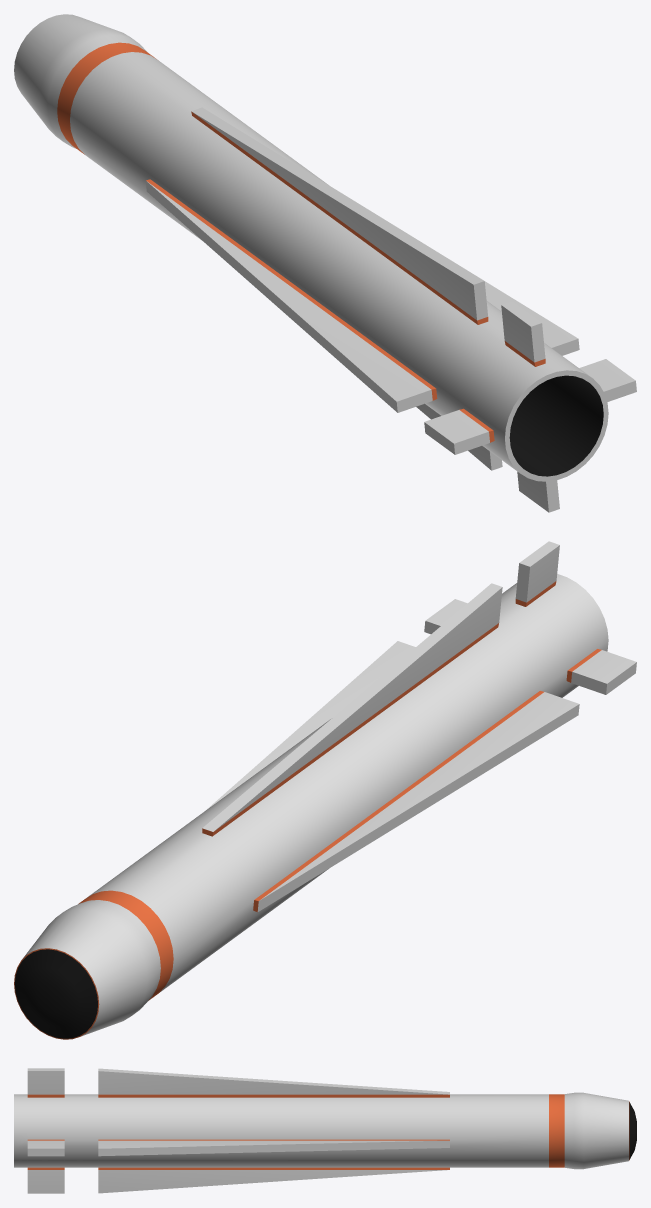
Rendered from Maverick.fbx.
3 views of the same model, one above another, from view 1: azimuth 30°, elevation 25°; view 2: azimuth 150°, elevation 25°; view 3: azimuth 270°, elevation 25° (orthographic). The views are drawn at different scales.
Visible parts, largest first — view 1: Cylinder; view 2: Cylinder; view 3: Cylinder.
Part boxes in pixels (<box>): Cylinder: <box>14,14,636,512</box>; Cylinder: <box>14,541,636,1039</box>; Cylinder: <box>14,1068,636,1193</box>.
Size of the model in its own units: 9.01 by 9.01 by 43.21.
